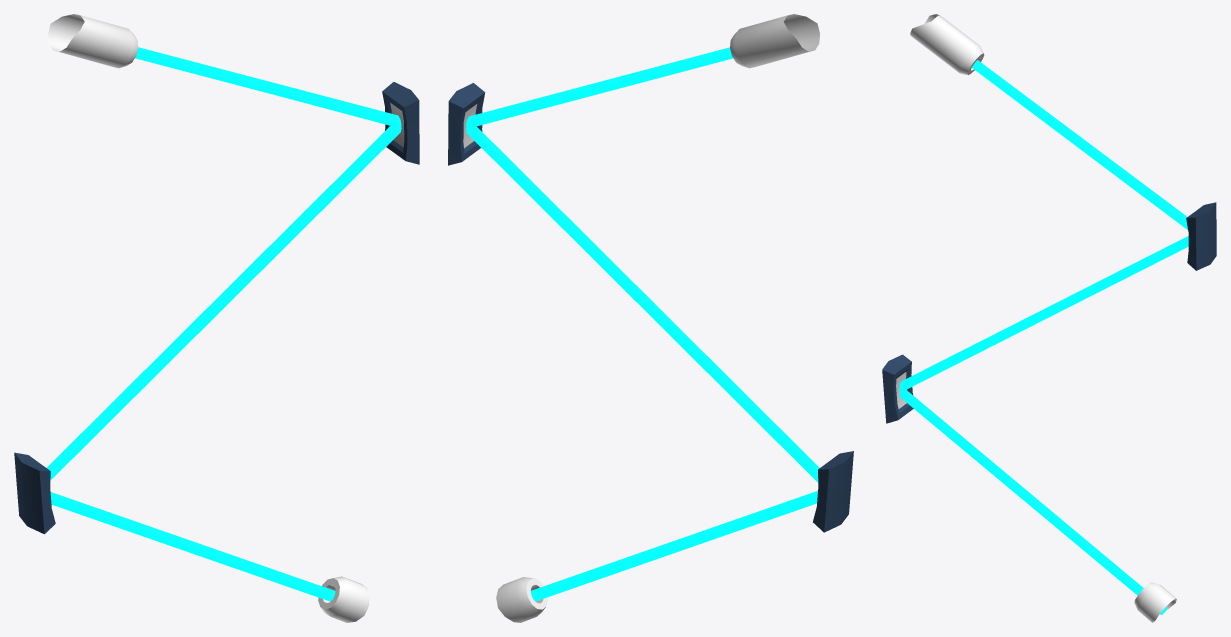
The model's file is Misc_LaserBlender_Lasers.glb.
3 views of the same model, side by side, from view 1: azimuth 30°, elevation 25°; view 2: azimuth 150°, elevation 25°; view 3: azimuth 330°, elevation 25° (orthographic). The views are drawn at different scales.
Parts seen in each view (by area): view 1: Misc_LaserBlender_Lasers.001; view 2: Misc_LaserBlender_Lasers.001; view 3: Misc_LaserBlender_Lasers.001.
Part boxes in pixels (bbox=[...]): Misc_LaserBlender_Lasers.001: bbox=[14, 14, 419, 622]; Misc_LaserBlender_Lasers.001: bbox=[448, 14, 853, 622]; Misc_LaserBlender_Lasers.001: bbox=[882, 14, 1216, 622].
Size of the model in its own units: 0.0984 by 0.1616 by 0.0114.
